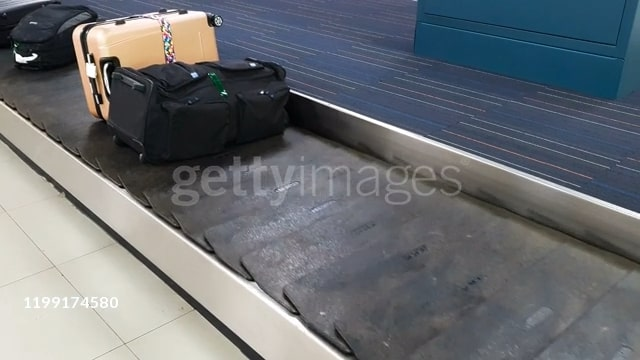baggage: (103, 54, 288, 162), (69, 9, 231, 122), (11, 7, 92, 74)
